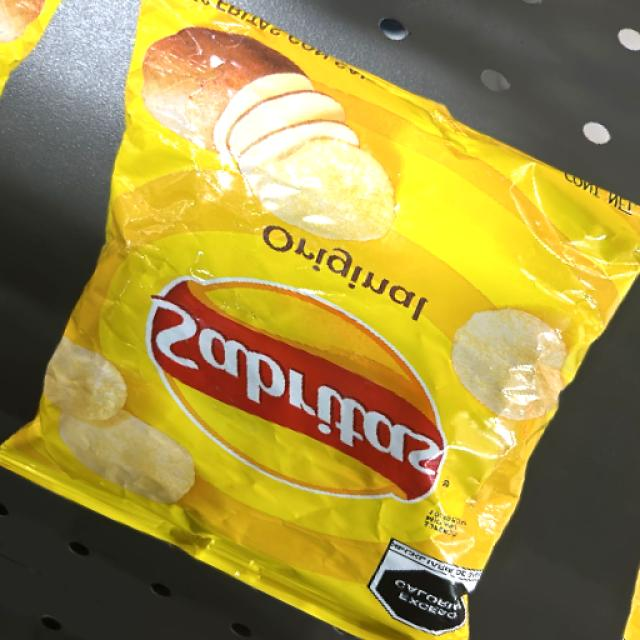sabritasOriginal: (110, 34, 507, 597)
